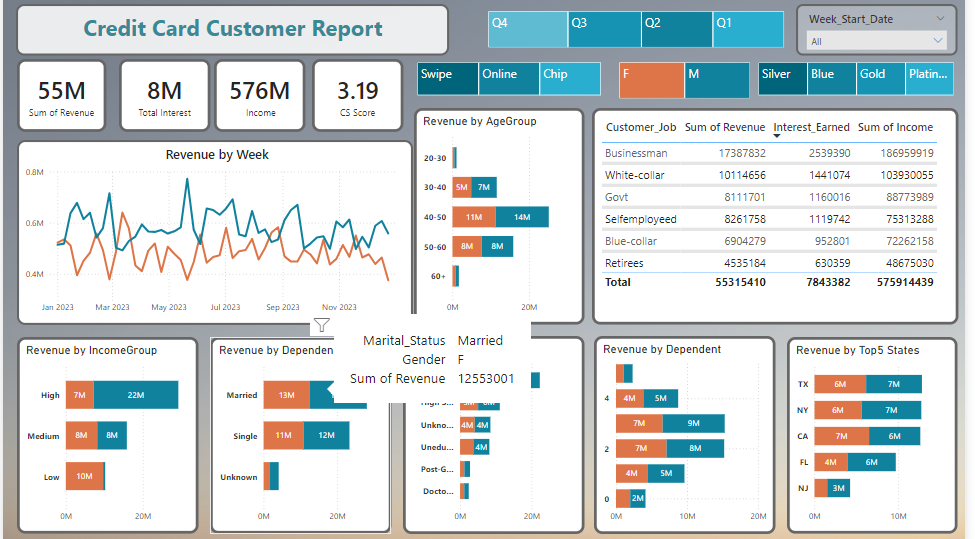

This screenshot's page, from the dashboard's own definition file:
{"tool":"powerbi","page":{"name":"cc_customer","canvas":[1400,800],"ordinal":2},"visuals":[{"type":"textbox","box":[19.2,14.4,630.4,75.2],"z":0},{"type":"barChart","title":" Revenue by IncomeGroup","fields":{"Y":["Sum(credit_card.Revenue)"],"Category":["customer.IncomeGroup"],"Series":["customer.Gender"]},"box":[20.8,499.2,264,286.4],"z":1000},{"type":"tableEx","fields":{"Values":["customer.Customer_Job","Sum(credit_card.Revenue)","Sum(credit_card.Interest_Earned)","Sum(customer.Income)"]},"box":[856,166.4,532.8,315.2],"z":2000},{"type":"slicer","fields":{"Values":["credit_card.Week_Start_Date"]},"box":[1153.6,14.4,235.2,75.2],"z":3000},{"type":"treemap","fields":{"Group":["credit_card.Qtr"],"Values":["Avg(credit_card.Client_Num)"]},"box":[700.8,20.8,440,62.4],"z":4000},{"type":"treemap","fields":{"Values":["Avg(credit_card.Client_Num)"],"Group":["customer.Gender"]},"box":[891.2,94.4,200,62.4],"z":5000},{"type":"treemap","fields":{"Group":["credit_card.Card_Category"],"Values":["Avg(credit_card.Client_Num)"]},"box":[1094.4,94.4,294.4,57.6],"z":6000},{"type":"card","fields":{"Values":["Sum(credit_card.Revenue)"]},"box":[20.8,94.4,129.6,105.6],"z":7000},{"type":"card","fields":{"Values":["Sum(credit_card.Interest_Earned)"]},"box":[168,94.4,132.8,105.6],"z":8000},{"type":"card","fields":{"Values":["Sum(customer.Income)"]},"box":[307.2,94.4,132.8,105.6],"z":9000},{"type":"card","fields":{"Values":["Avg(customer.Cust_Satisfaction_Score)"]},"box":[449.6,94.4,132.8,105.6],"z":10000},{"type":"lineChart","title":" Revenue by Week","fields":{"Y":["Sum(credit_card.Revenue)"],"Series":["customer.Gender"],"Category":["credit_card.Week_Start_Date.Variation.Date Hierarchy.Year","credit_card.Week_Start_Date.Variation.Date Hierarchy.Month","credit_card.Week_Start_Date.Variation.Date Hierarchy.Day"]},"box":[20.8,212.8,576,268.8],"z":11000},{"type":"barChart","title":" Revenue by AgeGroup","fields":{"Y":["Sum(credit_card.Revenue)"],"Category":["customer.AgeGroup"],"Series":["customer.Gender"]},"box":[598.4,166.4,248,315.2],"z":12000},{"type":"barChart","title":" Revenue by Dependent","fields":{"Y":["Sum(credit_card.Revenue)"],"Category":["customer.Dependent_Count"],"Series":["customer.Gender"]},"box":[859.2,497.6,264,288],"z":13000},{"type":"barChart","title":" Revenue by Education","fields":{"Y":["Sum(credit_card.Revenue)"],"Category":["customer.Education_Level"],"Series":["customer.Gender"]},"box":[582.4,497.6,264,288],"z":14000},{"type":"barChart","title":" Revenue by Top5 States","fields":{"Y":["Sum(credit_card.Revenue)"],"Category":["customer.state_cd"],"Series":["customer.Gender"]},"box":[1140.8,499.2,248,286.4],"z":15000},{"type":"barChart","title":" Revenue by Dependent","fields":{"Y":["Sum(credit_card.Revenue)"],"Category":["customer.Marital_Status"],"Series":["customer.Gender"]},"box":[300.8,499.2,264,286.4],"z":16000},{"type":"treemap","fields":{"Values":["Avg(credit_card.Client_Num)"],"Group":["credit_card.Use Chip"]},"box":[598.4,94.4,276.8,57.6],"z":17000}]}

Visuals, with their boxes in screenshot pixels (x1, y1, x2, y2):
textbox: x1=13, y1=0, x2=447, y2=51
" Revenue by IncomeGroup" barChart: x1=14, y1=333, x2=196, y2=530
tableEx - customer.Customer_Job x Sum(credit_card.Revenue): x1=589, y1=104, x2=955, y2=321
slicer - credit_card.Week_Start_Date: x1=794, y1=0, x2=955, y2=51
treemap - credit_card.Qtr x Avg(credit_card.Client_Num): x1=482, y1=4, x2=785, y2=47
treemap - Avg(credit_card.Client_Num) x customer.Gender: x1=613, y1=55, x2=751, y2=98
treemap - credit_card.Card_Category x Avg(credit_card.Client_Num): x1=753, y1=55, x2=955, y2=94
card - Sum(credit_card.Revenue): x1=14, y1=55, x2=103, y2=127
card - Sum(credit_card.Interest_Earned): x1=116, y1=55, x2=207, y2=127
card - Sum(customer.Income): x1=211, y1=55, x2=303, y2=127
card - Avg(customer.Cust_Satisfaction_Score): x1=309, y1=55, x2=401, y2=127
" Revenue by Week" lineChart: x1=14, y1=136, x2=411, y2=321
" Revenue by AgeGroup" barChart: x1=412, y1=104, x2=582, y2=321
" Revenue by Dependent" barChart: x1=591, y1=332, x2=773, y2=530
" Revenue by Education" barChart: x1=401, y1=332, x2=582, y2=530
" Revenue by Top5 States" barChart: x1=785, y1=333, x2=955, y2=530
" Revenue by Dependent" barChart: x1=207, y1=333, x2=389, y2=530
treemap - Avg(credit_card.Client_Num) x credit_card.Use Chip: x1=412, y1=55, x2=602, y2=94
